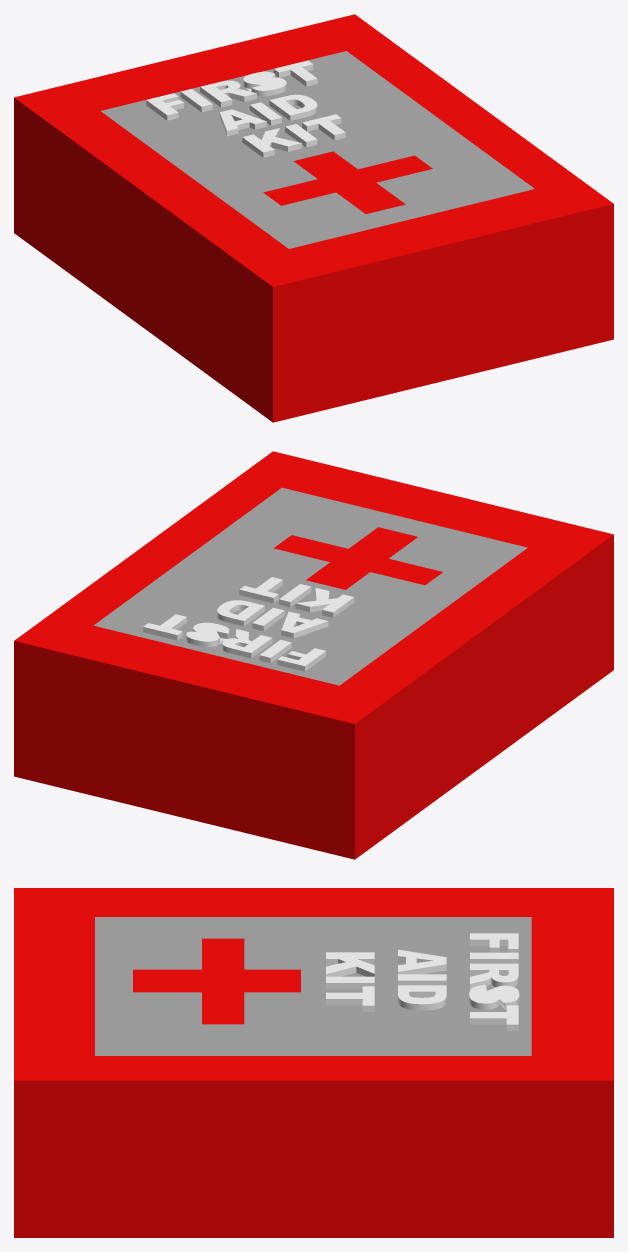
Rendered from FAK.fbx.
3 views of the same model, one above another, from view 1: azimuth 30°, elevation 25°; view 2: azimuth 150°, elevation 25°; view 3: azimuth 270°, elevation 25° (orthographic). The views are drawn at different scales.
Parts seen in each view (by area): view 1: Model, FIRST_AID_KIT1; view 2: Model, FIRST_AID_KIT1; view 3: Model, FIRST_AID_KIT1.
Part boxes in pixels (bbox=[...]): Model: bbox=[14, 14, 613, 422]; FIRST_AID_KIT1: bbox=[146, 60, 345, 157]; Model: bbox=[14, 451, 613, 859]; FIRST_AID_KIT1: bbox=[143, 577, 354, 671]; Model: bbox=[14, 888, 613, 1237]; FIRST_AID_KIT1: bbox=[326, 933, 519, 1030].
Size of the model in its own units: 65.44 by 25.88 by 86.12.
